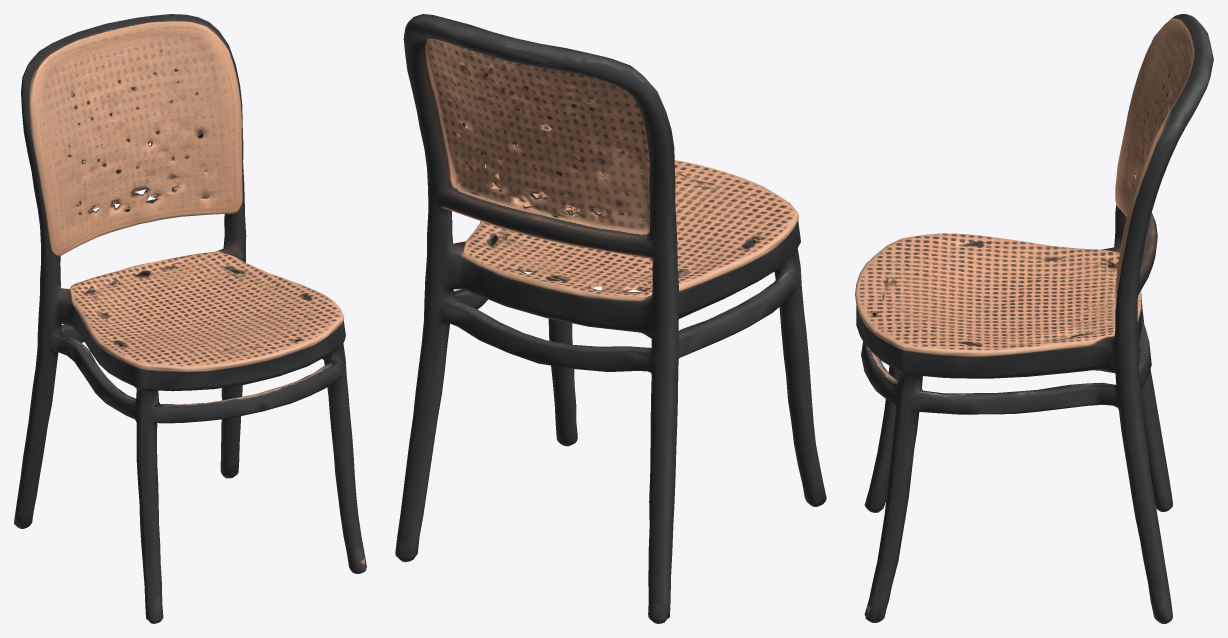
Rendered from Alexa_Chair_0320032345_texture.glb.
3 views of the same model, side by side, from view 1: azimuth 30°, elevation 25°; view 2: azimuth 150°, elevation 25°; view 3: azimuth 270°, elevation 25° (orthographic). The views are drawn at different scales.
Parts seen in each view (by area): view 1: Mesh_0.003; view 2: Mesh_0.003; view 3: Mesh_0.003.
Boxes of the visible parts, box(x1,y1,x2,y2) form: Mesh_0.003: box(14, 14, 366, 623); Mesh_0.003: box(395, 14, 826, 623); Mesh_0.003: box(855, 14, 1213, 623).
Bounding box in the file's own units: 0.4563 × 0.9144 × 0.5746.
1 material, 1 textured.
